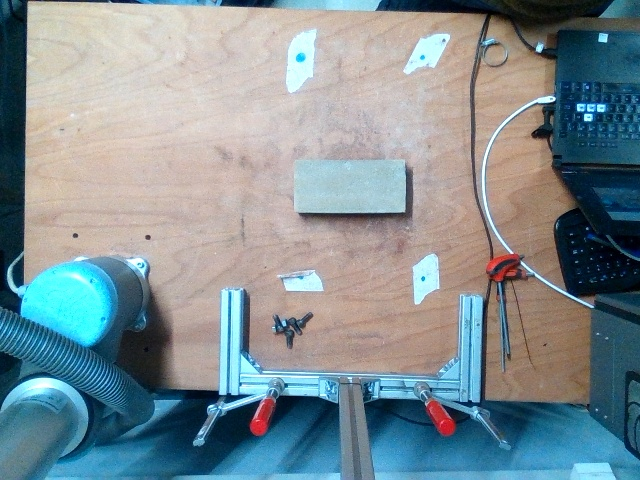brick: (295, 161, 404, 210)
